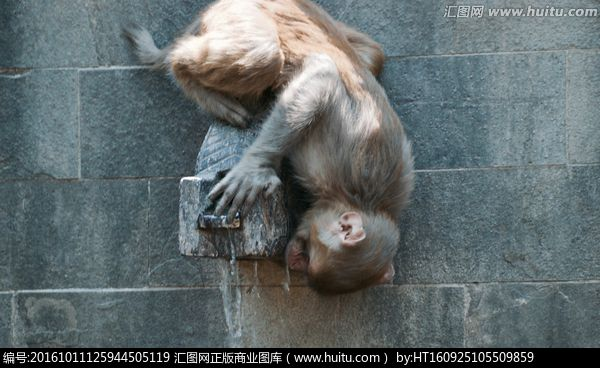monkey: (134, 3, 419, 302)
